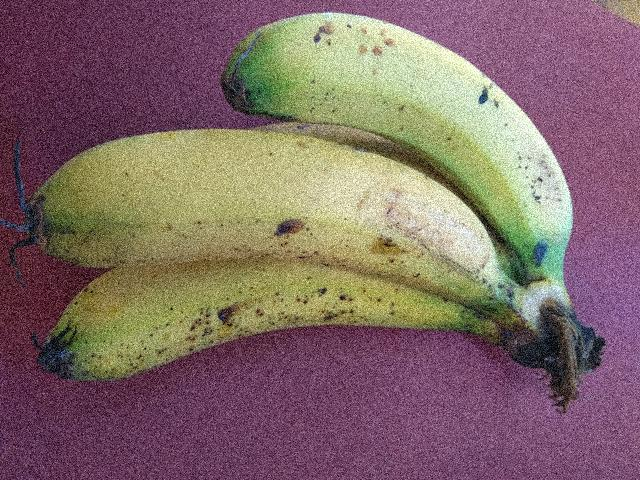ripe: (8, 105, 488, 288), (217, 11, 582, 251), (41, 251, 458, 407)
